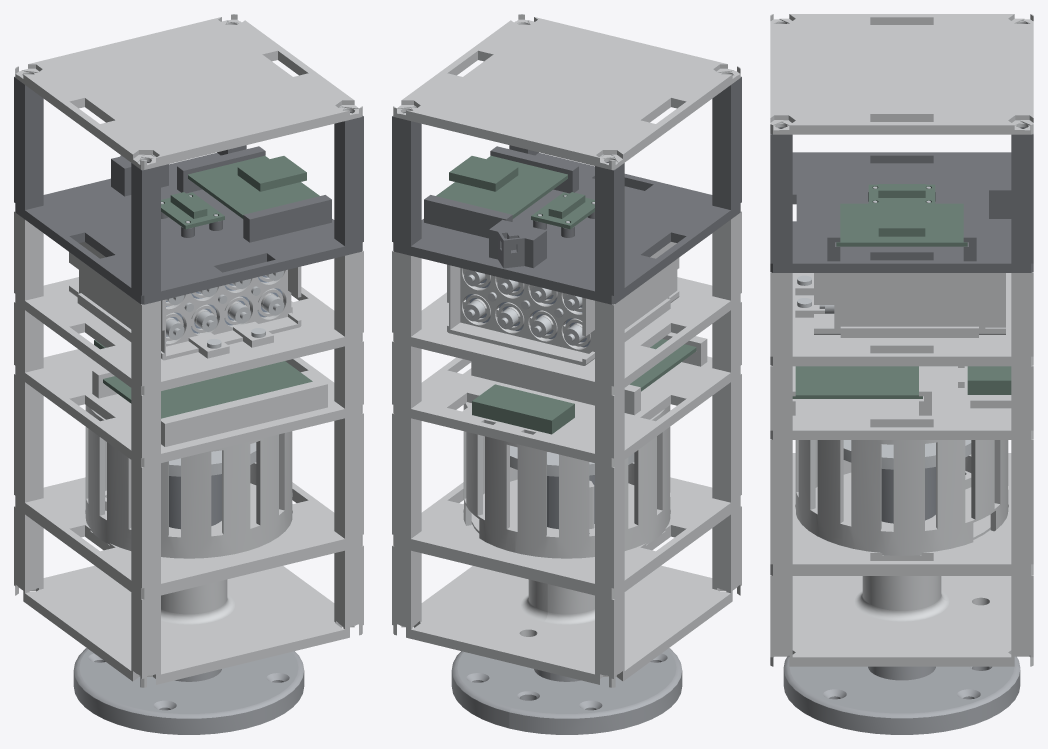
Rendered from direcsun.glb.
3 renders of one model, left to right at view 1: azimuth 30°, elevation 25°; view 2: azimuth 150°, elevation 25°; view 3: azimuth 270°, elevation 25°, orthographic. The views are drawn at different scales.
Parts seen in each view (by area): view 1: avionics_deck, top_deck, bottom_cap, motor_deck, power_deck, battery_deck, flywheel_guard, base_hub, battery_cap_a, board_power, board_xiao_carrier, contacts_cap_a (+5 smaller); view 2: avionics_deck, top_deck, bottom_cap, motor_deck, power_deck, battery_deck, flywheel_guard, base_hub, battery_cap_b, board_xiao_carrier, esc, contacts_cap_b (+6 smaller); view 3: top_deck, avionics_deck, bottom_cap, flywheel_guard, motor_deck, power_deck, base_hub, battery_deck, battery_holder_body, board_power, board_xiao_carrier, battery_cap_a (+6 smaller).
Boxes of the visible parts, box(x1,y1,x2,y2) form: avionics_deck: box(14, 76, 363, 304); top_deck: box(15, 14, 362, 169); bottom_cap: box(14, 506, 363, 687); motor_deck: box(14, 374, 363, 599); power_deck: box(14, 302, 363, 467); battery_deck: box(14, 211, 363, 395); flywheel_guard: box(85, 405, 292, 558); base_hub: box(73, 648, 304, 734); battery_cap_a: box(161, 266, 301, 360); board_power: box(103, 361, 312, 418); board_xiao_carrier: box(188, 155, 319, 218); contacts_cap_a: box(166, 270, 284, 339); avionics_deck: box(392, 76, 741, 304); top_deck: box(393, 14, 740, 169); bottom_cap: box(392, 506, 741, 687); motor_deck: box(392, 374, 741, 599); power_deck: box(392, 302, 741, 467); battery_deck: box(392, 211, 741, 395); flywheel_guard: box(463, 402, 670, 558); base_hub: box(451, 648, 682, 734); battery_cap_b: box(447, 264, 594, 365); board_xiao_carrier: box(436, 155, 567, 218); esc: box(472, 384, 574, 434); contacts_cap_b: box(464, 269, 584, 345); top_deck: box(770, 14, 1033, 134); avionics_deck: box(770, 127, 1033, 272); bottom_cap: box(770, 575, 1033, 666); flywheel_guard: box(795, 440, 1008, 555); motor_deck: box(770, 439, 1033, 575); power_deck: box(770, 365, 1033, 439); base_hub: box(783, 656, 1020, 734); battery_deck: box(770, 272, 1033, 366); battery_holder_body: box(840, 273, 978, 326); board_power: box(792, 366, 922, 398); board_xiao_carrier: box(836, 203, 967, 246); battery_cap_a: box(795, 273, 840, 334).
Bounding box in the file's own units: 0.1 × 0.258 × 0.1.
